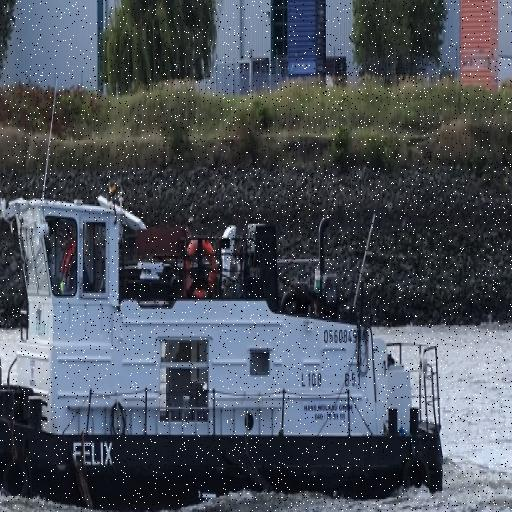tugboat: (1, 185, 449, 508)
